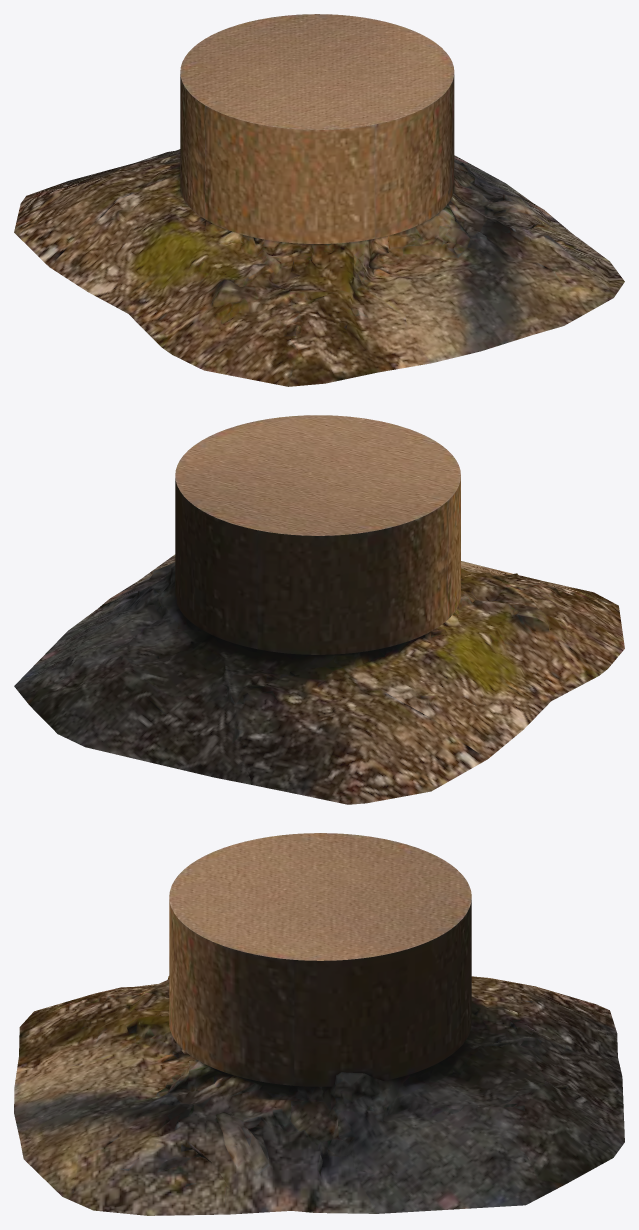
Rendered from table-1k.glb.
3 renders of one model, top to bottom at view 1: azimuth 30°, elevation 25°; view 2: azimuth 150°, elevation 25°; view 3: azimuth 270°, elevation 25°, orthographic. The views are drawn at different scales.
Bounding box in the file's own units: 23.45 × 9.61 × 26.15.
1 material, 1 textured.
